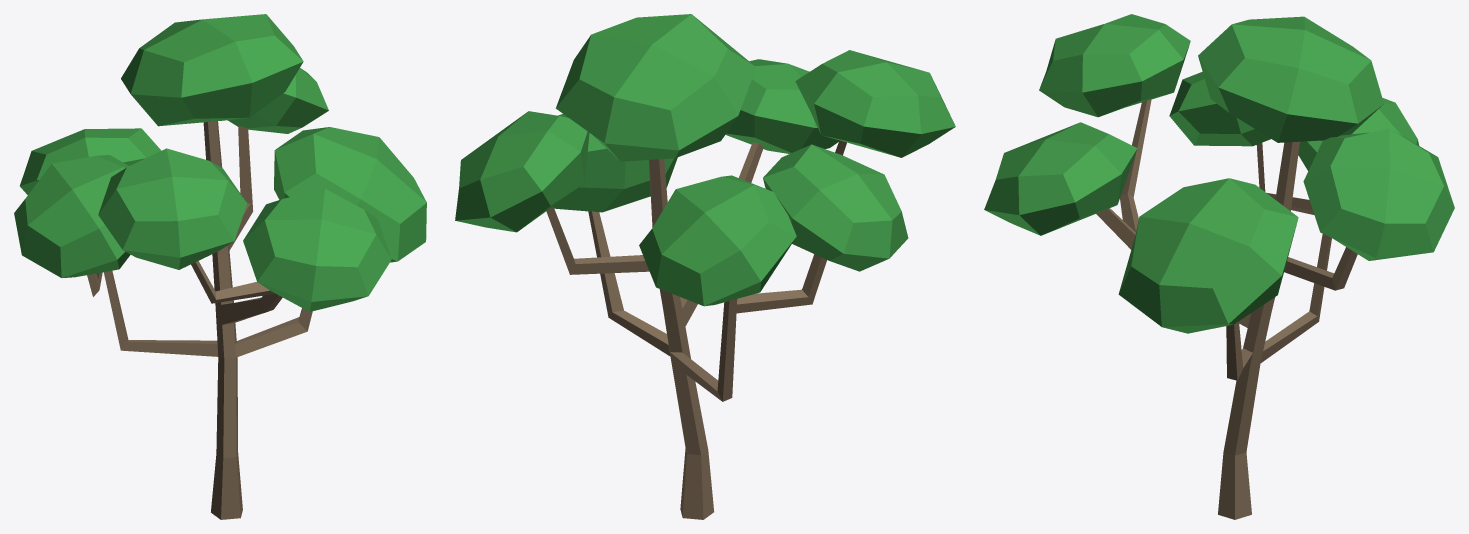
Rendered from tree_a_5.FBX.
3 renders of one model, left to right at view 1: azimuth 30°, elevation 25°; view 2: azimuth 150°, elevation 25°; view 3: azimuth 270°, elevation 25°, orthographic. The views are drawn at different scales.
Parts seen in each view (by area): view 1: tree_a_5; view 2: tree_a_5; view 3: tree_a_5.
Part boxes in pixels (x1,y1,x2,y2): tree_a_5: (14,14,426,519); tree_a_5: (455,14,955,519); tree_a_5: (984,14,1454,519).
Bounding box in the file's own units: 5.1 × 6.04 × 5.25.
